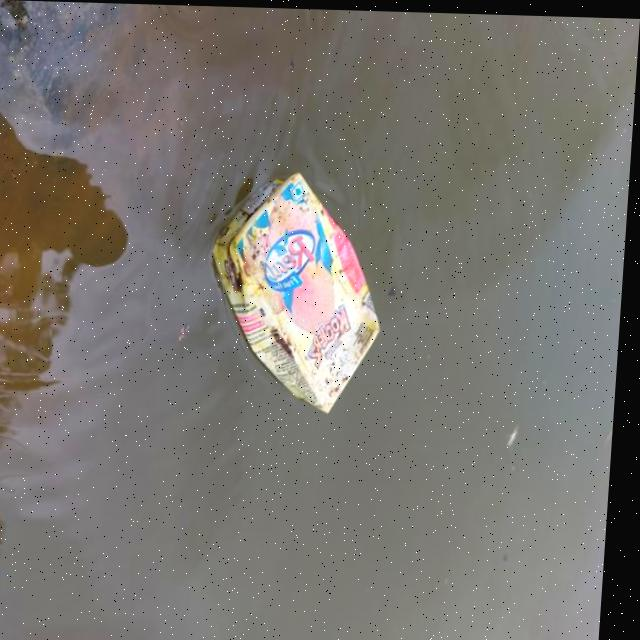paper: (185, 153, 400, 409)
